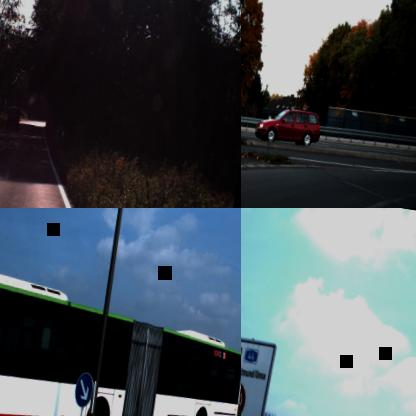keep right: (72, 370, 95, 408)
no trucks: (241, 378, 248, 416)
